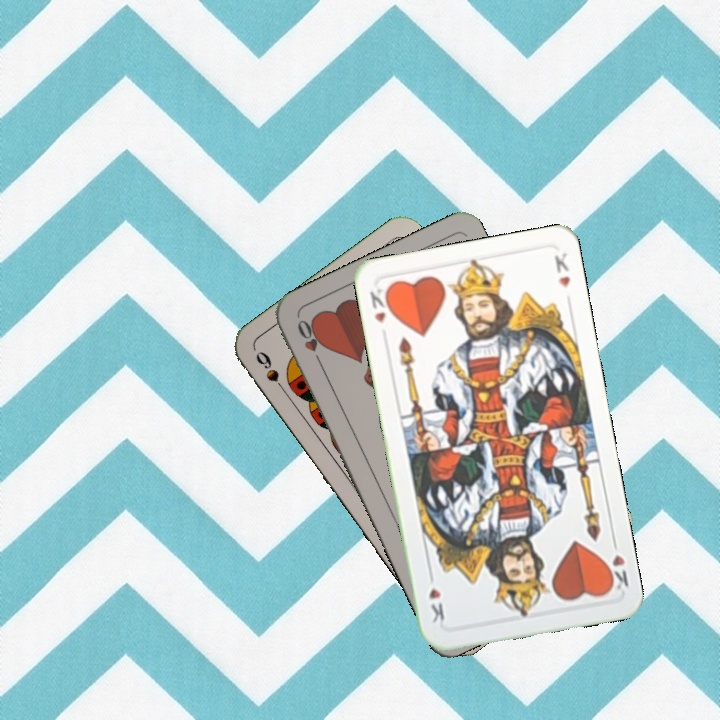HK: (601, 534, 632, 594), (365, 283, 395, 326)
HO: (293, 315, 326, 370)
S9: (251, 347, 291, 399)
